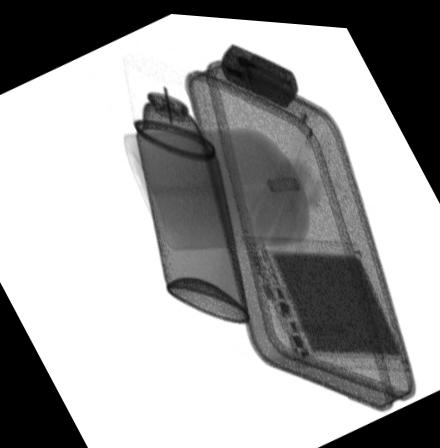Lighter: (220, 39, 299, 103)
Powerbank: (242, 232, 412, 363)
Sprayer: (123, 52, 250, 319)
